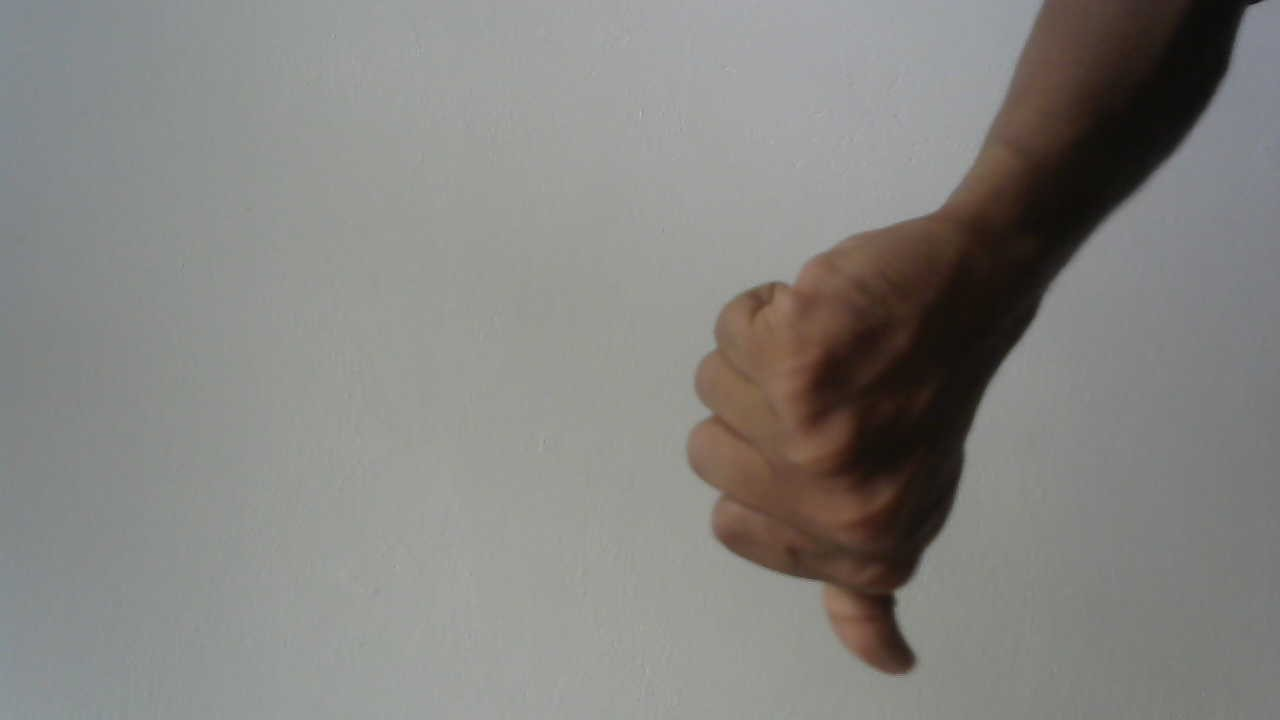thumbsdown: (674, 191, 1023, 702)
